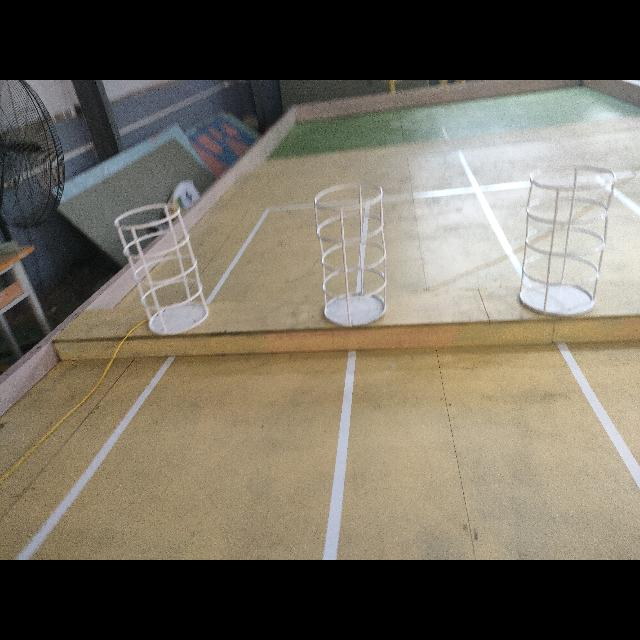S: (516, 160, 608, 320), (111, 198, 212, 339), (314, 181, 391, 329)
